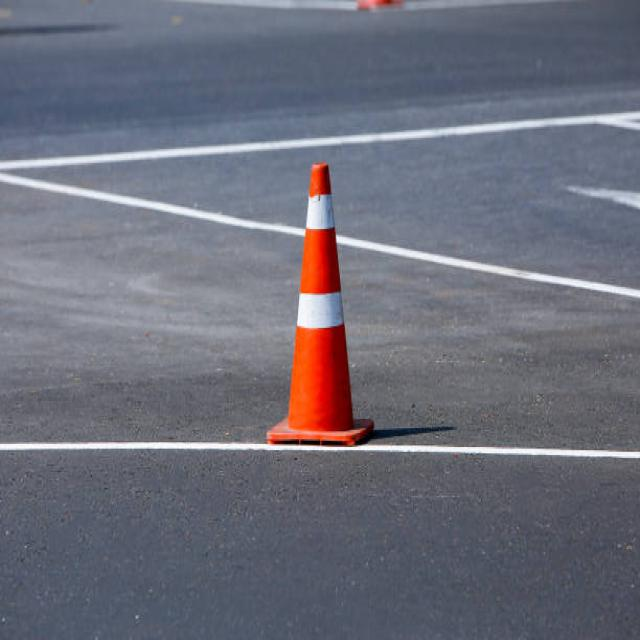Traffic Cone: (248, 129, 384, 460)
